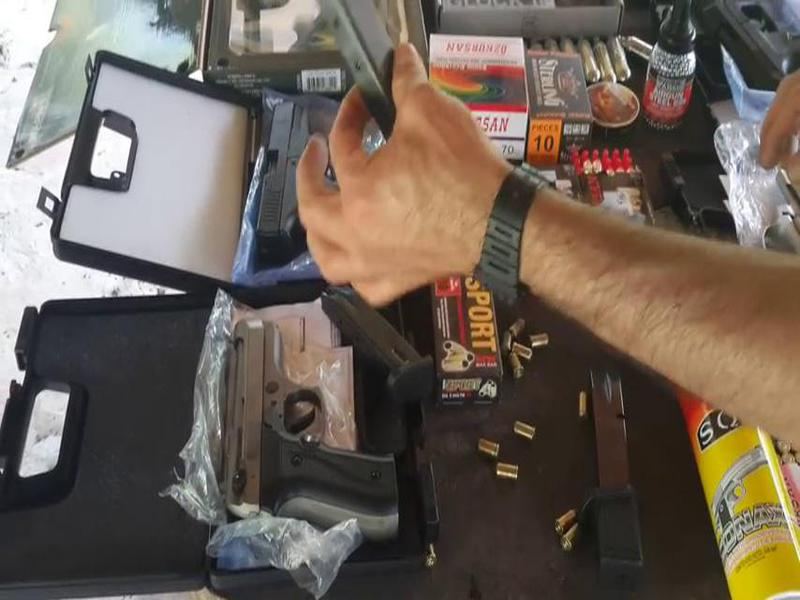Pistola: (186, 296, 419, 552)
